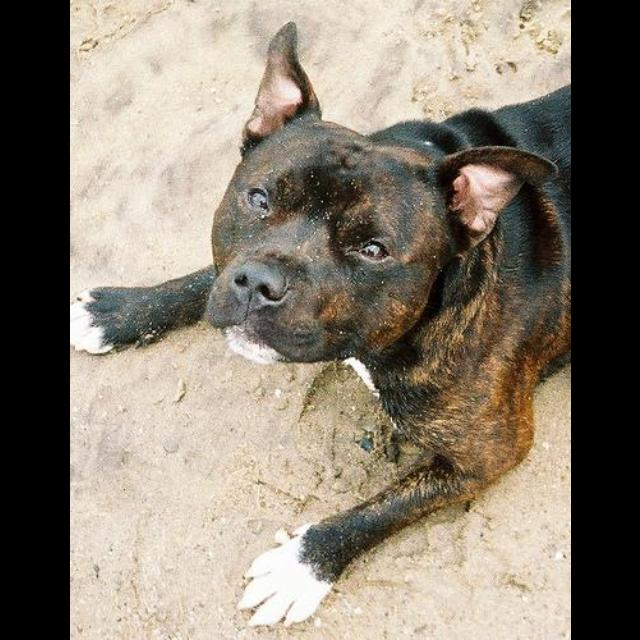staffford: (70, 21, 570, 630)
